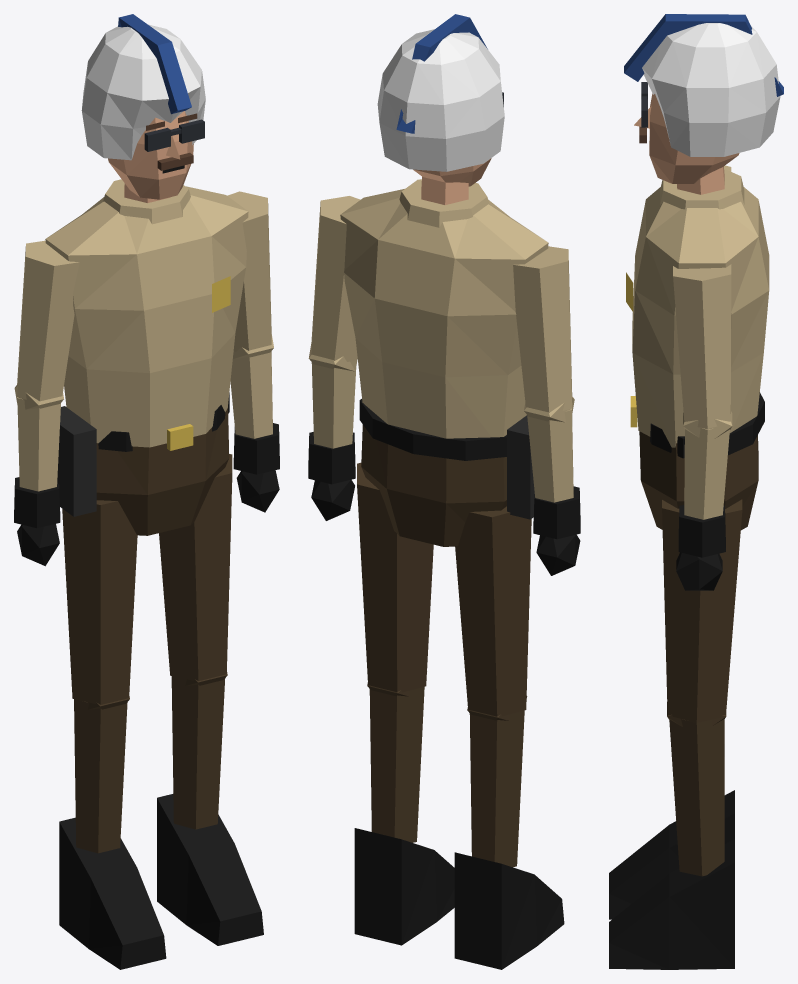
Rendered from sgt-pruitt.glb.
3 renders of one model, left to right at view 1: azimuth 30°, elevation 25°; view 2: azimuth 150°, elevation 25°; view 3: azimuth 270°, elevation 25°, orthographic. The views are drawn at different scales.
Parts seen in each view (by area): view 1: chest_mesh, shin_r_mesh, shin_l_mesh, head_mesh, thigh_r_mesh, thigh_l_mesh, hips_mesh, upper_arm_r_mesh, forearm_r_mesh, forearm_l_mesh, upper_arm_l_mesh, prop_mesh (+2 smaller); view 2: chest_mesh, shin_r_mesh, shin_l_mesh, head_mesh, thigh_r_mesh, hips_mesh, thigh_l_mesh, upper_arm_r_mesh, forearm_r_mesh, forearm_l_mesh, upper_arm_l_mesh, prop_mesh (+1 smaller); view 3: chest_mesh, shin_l_mesh, head_mesh, thigh_l_mesh, upper_arm_l_mesh, forearm_l_mesh, hips_mesh, shin_r_mesh, head_detail.
Part boxes in pixels (<box>): chest_mesh: <box>45,179,248,447</box>; shin_r_mesh: <box>59,699,166,969</box>; shin_l_mesh: <box>157,676,263,945</box>; head_mesh: <box>81,24,205,202</box>; thigh_r_mesh: <box>62,500,137,709</box>; thigh_l_mesh: <box>159,454,232,685</box>; hips_mesh: <box>96,392,229,535</box>; upper_arm_r_mesh: <box>14,240,79,409</box>; forearm_r_mesh: <box>14,397,60,566</box>; forearm_l_mesh: <box>230,351,279,512</box>; upper_arm_l_mesh: <box>227,191,273,359</box>; prop_mesh: <box>57,406,96,516</box>; chest_mesh: <box>340,179,548,438</box>; shin_r_mesh: <box>454,710,564,969</box>; shin_l_mesh: <box>354,687,454,945</box>; head_mesh: <box>377,29,504,204</box>; thigh_r_mesh: <box>455,506,531,720</box>; hips_mesh: <box>359,399,506,546</box>; thigh_l_mesh: <box>357,462,433,696</box>; upper_arm_r_mesh: <box>513,246,574,422</box>; forearm_r_mesh: <box>527,408,580,575</box>; forearm_l_mesh: <box>308,360,356,520</box>; upper_arm_l_mesh: <box>308,196,360,371</box>; prop_mesh: <box>507,415,534,519</box>; chest_mesh: <box>632,169,769,447</box>; shin_l_mesh: <box>609,719,734,969</box>; head_mesh: <box>639,23,780,194</box>; thigh_l_mesh: <box>662,499,742,726</box>; upper_arm_l_mesh: <box>673,264,732,439</box>; forearm_l_mesh: <box>676,428,729,590</box>; hips_mesh: <box>639,392,764,530</box>; shin_r_mesh: <box>609,719,734,919</box>; head_detail: <box>624,14,783,128</box>.
Bounding box in the file's own units: 0.577 × 1.84 × 0.3191.
